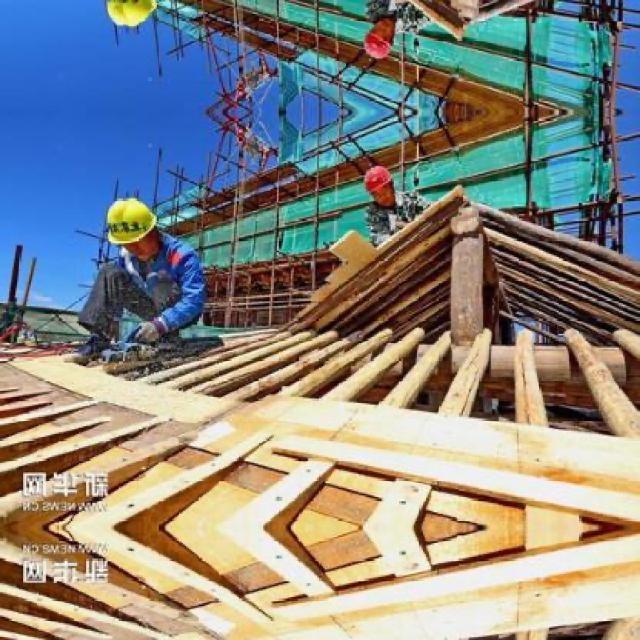con casco: (326, 147, 412, 225), (80, 193, 160, 247)
